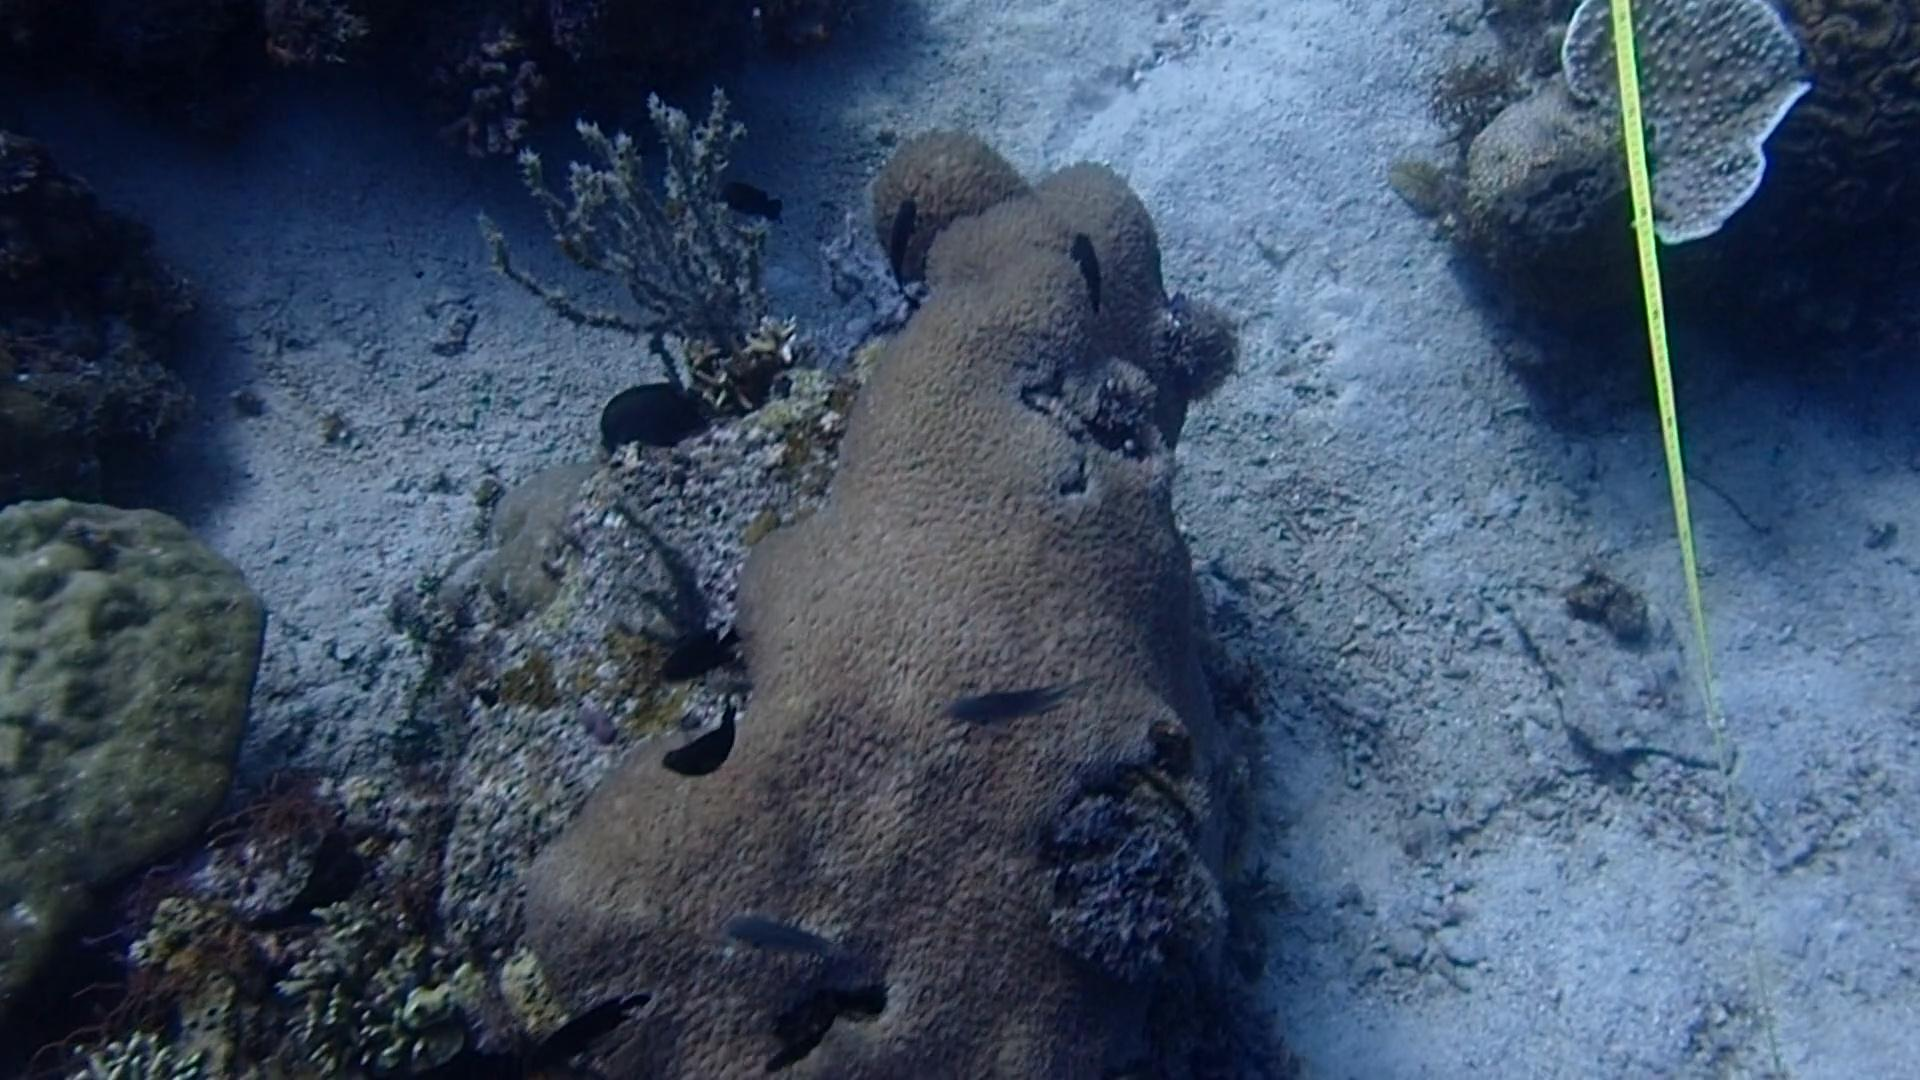Dark Fish: (530, 988, 651, 1067), (654, 698, 746, 787), (646, 615, 742, 687), (712, 173, 794, 235), (1058, 225, 1112, 307), (878, 190, 928, 274)
Light Fish: (721, 902, 858, 978), (948, 665, 1092, 736)
